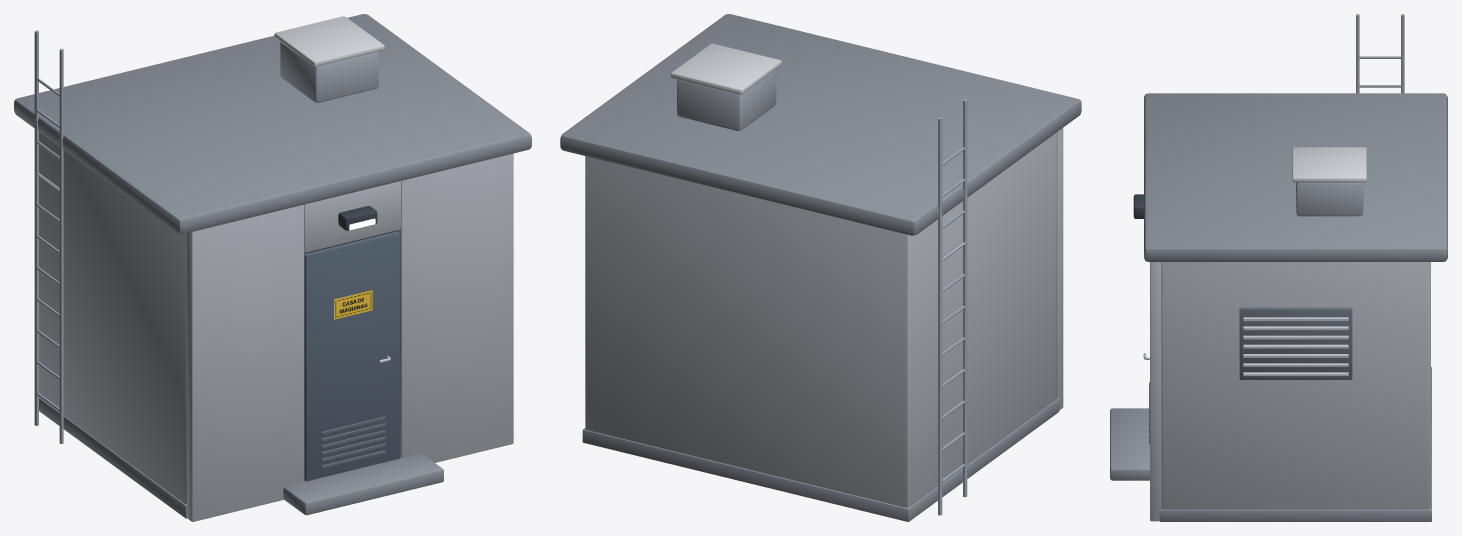
Rendered from casa_maquinas.glb.
3 views of the same model, side by side, from view 1: azimuth 30°, elevation 25°; view 2: azimuth 150°, elevation 25°; view 3: azimuth 270°, elevation 25° (orthographic). The views are drawn at different scales.
Visible parts, largest first — view 1: casa_maquinas, porta; view 2: casa_maquinas; view 3: casa_maquinas.
Boxes of the visible parts, x1,y1,x2,y2 form: casa_maquinas: (14,14,531,521); porta: (304,231,399,481); casa_maquinas: (560,14,1081,521); casa_maquinas: (1110,14,1447,521).
Size of the model in its own units: 3.32 by 3.5 by 3.
Materials: 3 (2 with a texture image).
